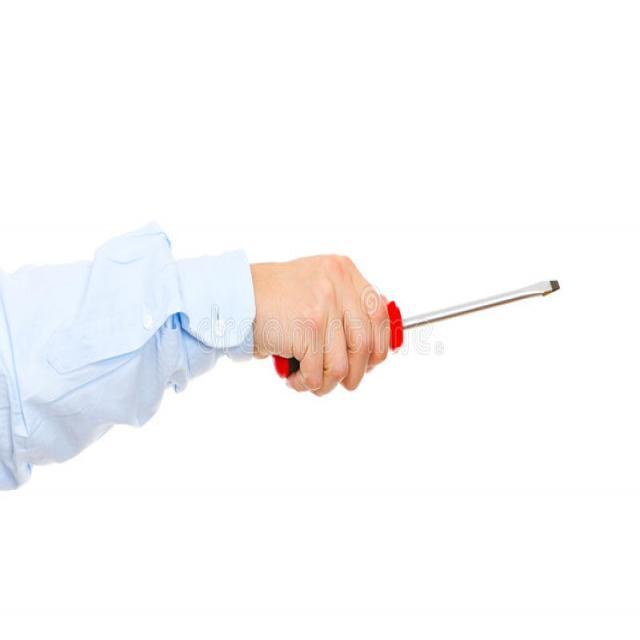screwdriver: (275, 270, 567, 380)
